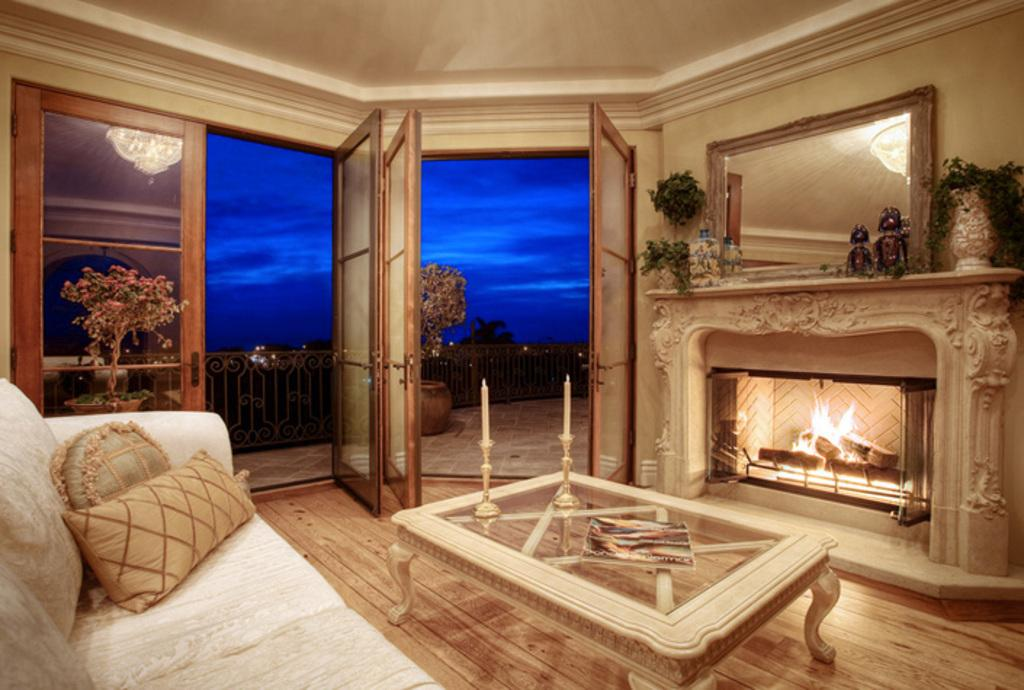Fire: (776, 399, 882, 480)
